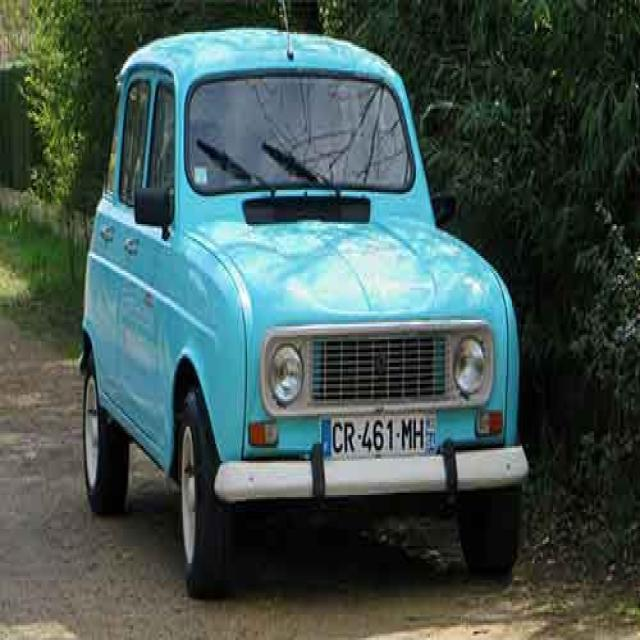EU: (323, 418, 436, 459)
France: (325, 419, 332, 458)
